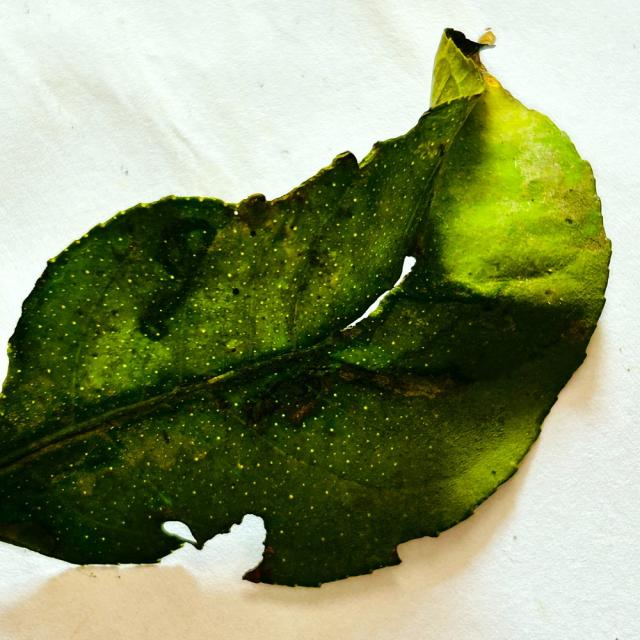Deficiency Leaf: (159, 515, 265, 584), (346, 291, 391, 329), (393, 256, 415, 289)
Lemon: (0, 29, 611, 586)
